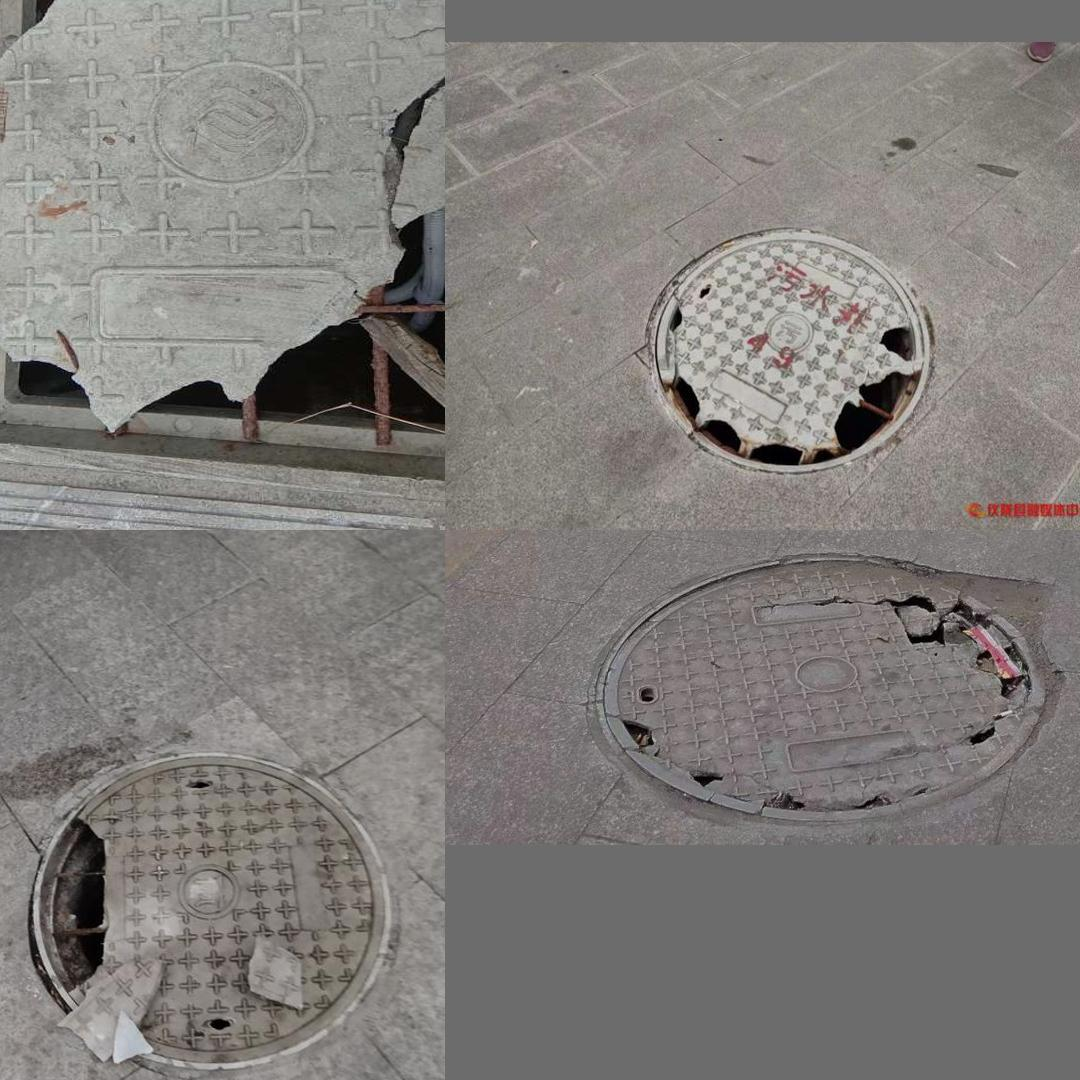broke: (0, 0, 442, 488), (0, 734, 398, 1080), (595, 554, 1051, 823), (632, 213, 948, 484)
